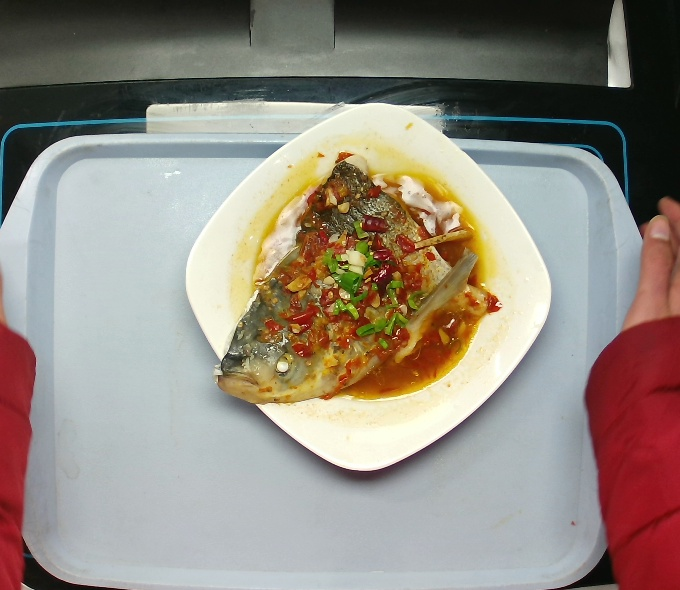wcq-DuoJiaoYuTou: (215, 144, 511, 431)
